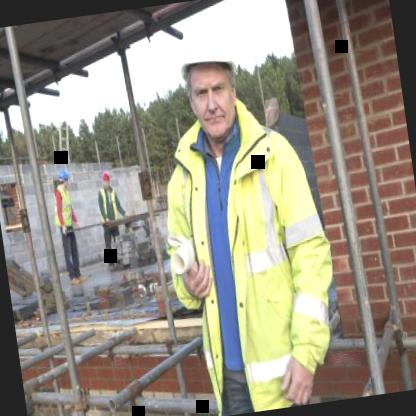helmet: (166, 7, 253, 144), (54, 165, 74, 192), (96, 164, 115, 192)
